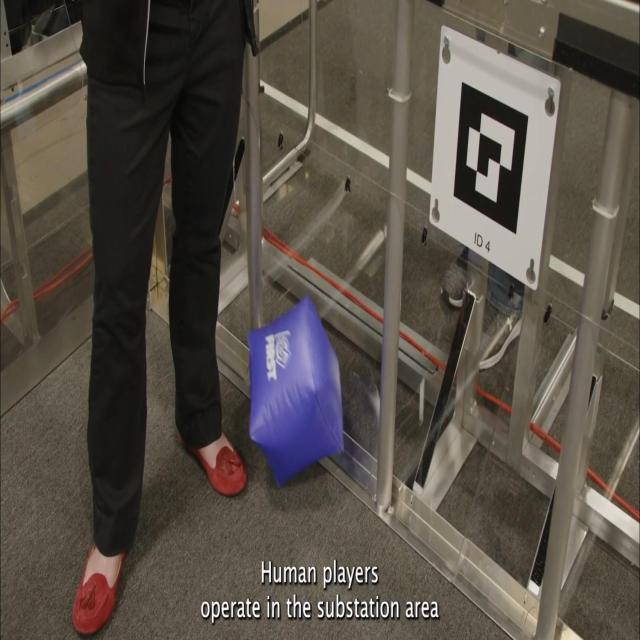frc_cube: (248, 295, 342, 485)
